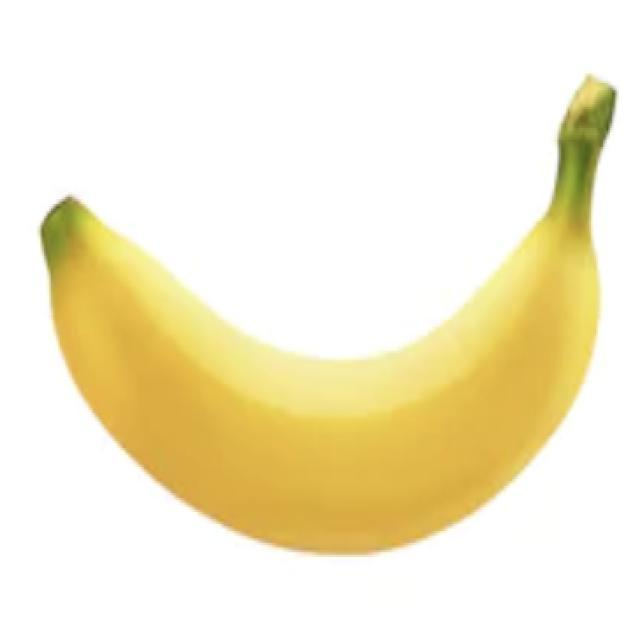Banana: (38, 72, 618, 555)
